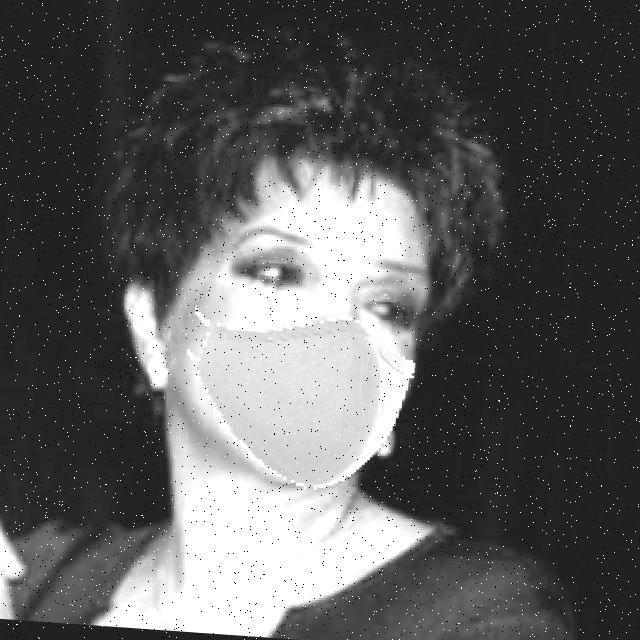mask: (163, 294, 411, 492)
no_gloves: (88, 48, 520, 225)
